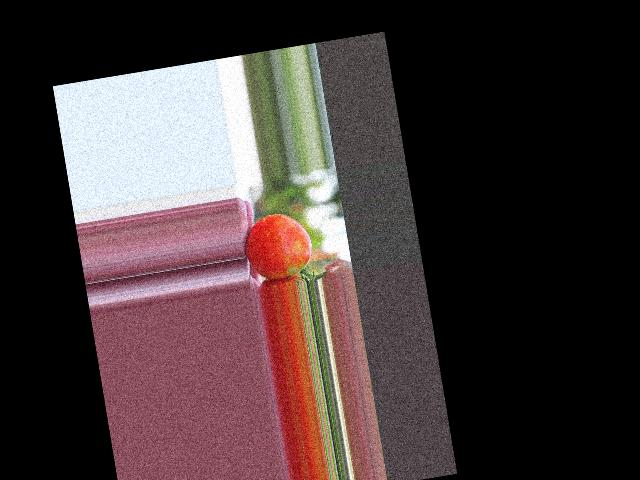tomato: (241, 209, 316, 282)
